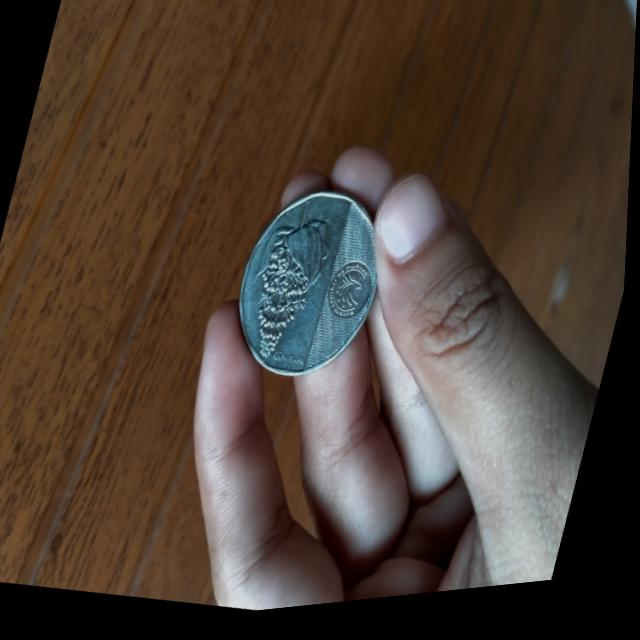10_New_Back: (233, 192, 346, 386)
